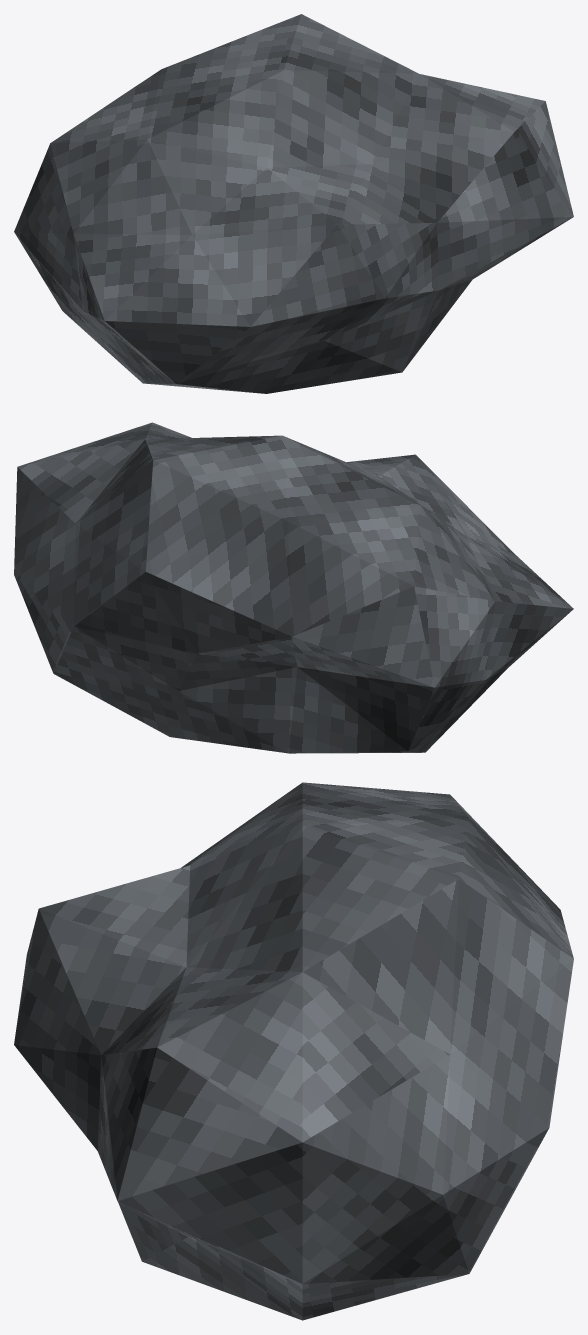
Rendered from Astreroid_6.fbx.
The picture shows the model from 3 angles, top to bottom: view 1: azimuth 30°, elevation 25°; view 2: azimuth 150°, elevation 25°; view 3: azimuth 270°, elevation 25°; orthographic projection. The views are drawn at different scales.
Parts seen in each view (by area): view 1: Asteroid_LowPoly; view 2: Asteroid_LowPoly; view 3: Asteroid_LowPoly.
Part boxes in pixels (<box>): Asteroid_LowPoly: <box>14,14,573,393</box>; Asteroid_LowPoly: <box>14,422,573,753</box>; Asteroid_LowPoly: <box>14,782,573,1320</box>.
Bounding box in the file's own units: 532 × 312 × 366.
